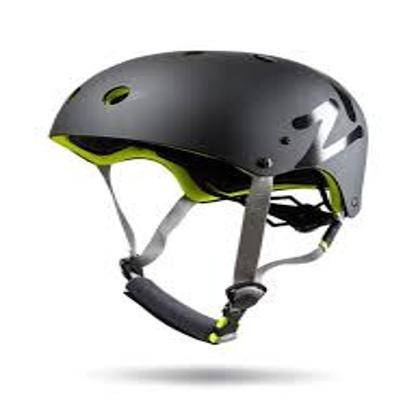not trash: (49, 46, 366, 344)
